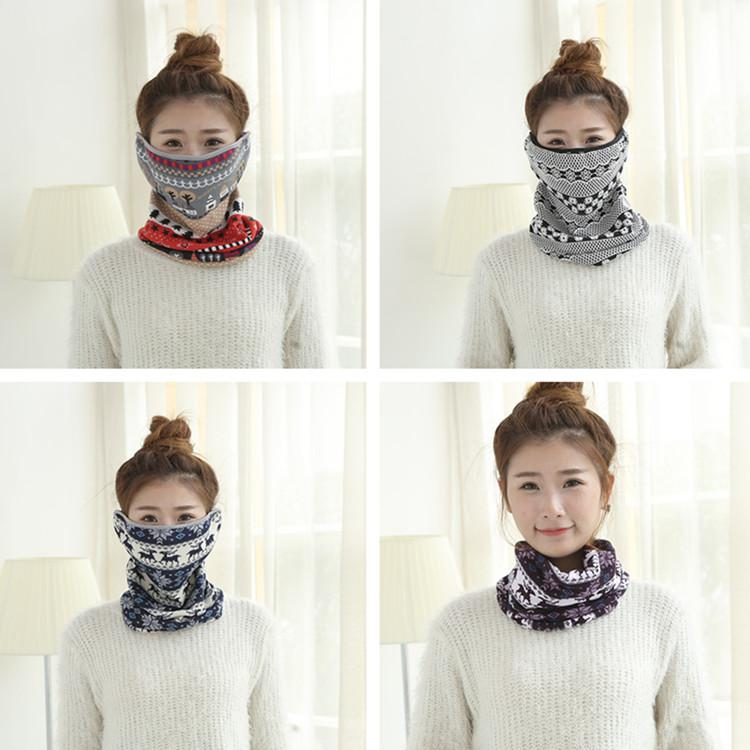NONE: (508, 458, 598, 551)
OK: (537, 123, 631, 217), (144, 122, 236, 214), (126, 500, 212, 586)
